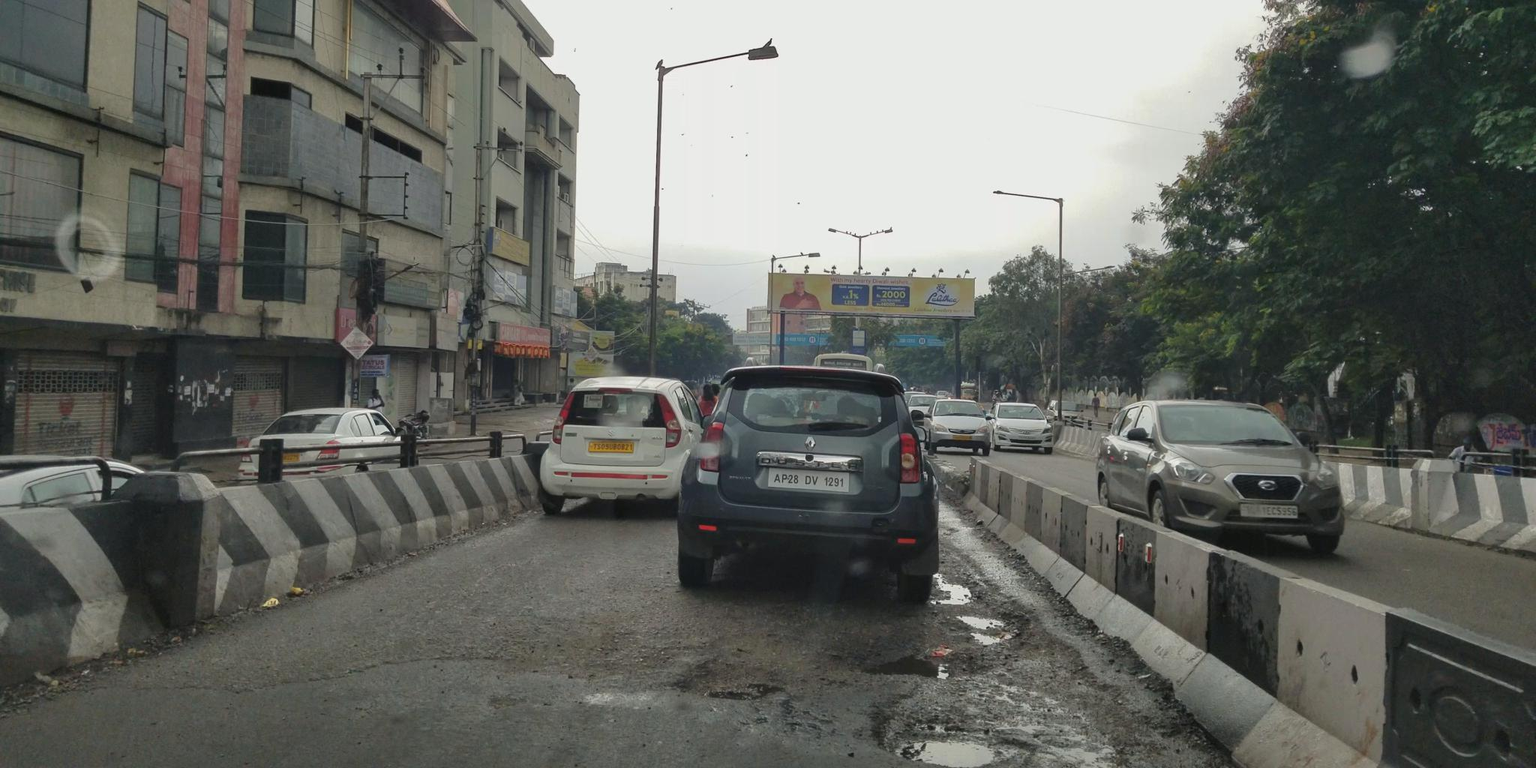streetlight: (658, 24, 794, 76), (988, 181, 1072, 220), (757, 239, 830, 268), (859, 219, 898, 238), (818, 220, 857, 238)
